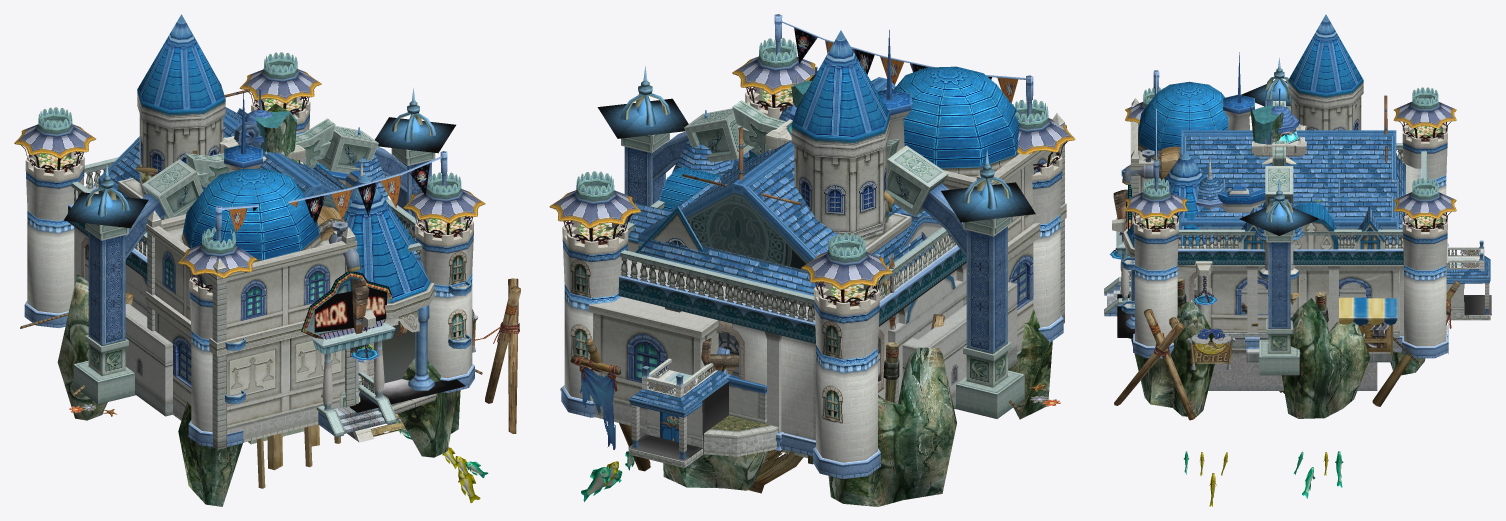
Rendered from modelos_cenario.glb.
3 views of the same model, side by side, from view 1: azimuth 30°, elevation 25°; view 2: azimuth 150°, elevation 25°; view 3: azimuth 270°, elevation 25° (orthographic). The views are drawn at different scales.
Parts seen in each view (by area): view 1: parte_6 (×2), parte_0 (×5), parte_5 (×6), parte_3 (×4), parte_9, parte_2 (×4), parte_24, parte_22, parte_7, parte_1 (×3), parte_8, parte_19 (×2) (+9 smaller); view 2: parte_0 (×7), parte_3 (×4), parte_2 (×6), parte_1 (×6), parte_6 (×2), parte_16, parte_5 (×4), parte_17, parte_22, parte_23, parte_8, parte_4 (×2) (+6 smaller); view 3: parte_3 (×5), parte_4 (×5), parte_1 (×4), parte_0 (×7), parte_2 (×4), parte_17, parte_6 (×3), parte_19, parte_8 (×2), parte_5 (×3), parte_23, parte_24 (+9 smaller).
Boxes of the visible parts, x1,y1,x2,y2 form: parte_6 (×2): (145,117,455,356); parte_0 (×5): (24,103,520,433); parte_5 (×6): (63,91,434,506); parte_3 (×4): (125,14,460,457); parte_9: (147,306,344,449); parte_2 (×4): (84,114,415,382); parte_24: (403,172,485,285); parte_22: (14,107,95,220); parte_7: (305,275,397,437); parte_1 (×3): (57,148,435,442); parte_8: (427,273,474,392); parte_19 (×2): (277,151,465,412); parte_0 (×7): (588,177,1024,478); parte_3 (×4): (620,30,1017,467); parte_2 (×6): (561,110,1012,493); parte_1 (×6): (621,133,966,506); parte_6 (×2): (597,66,1066,260); parte_16: (718,150,909,343); parte_5 (×4): (877,30,1063,419); parte_17: (618,150,778,319); parte_22: (801,232,892,359); parte_23: (549,171,640,297); parte_8: (593,313,718,429); parte_4 (×2): (570,100,900,471); parte_3 (×5): (1131,14,1491,417); parte_4 (×5): (1193,100,1460,418); parte_1 (×4): (1208,124,1377,390); parte_0 (×7): (1114,88,1448,420); parte_2 (×4): (1194,96,1448,358); parte_17: (1328,134,1409,264); parte_6 (×3): (1130,81,1319,235); parte_19: (1153,132,1254,264); parte_8 (×2): (1121,257,1446,358); parte_5 (×3): (1110,52,1290,272); parte_23: (1393,178,1456,270); parte_24: (1125,178,1187,270).
Size of the model in its own units: 20.88 by 23.91 by 20.77.
181 materials, 181 textured.
